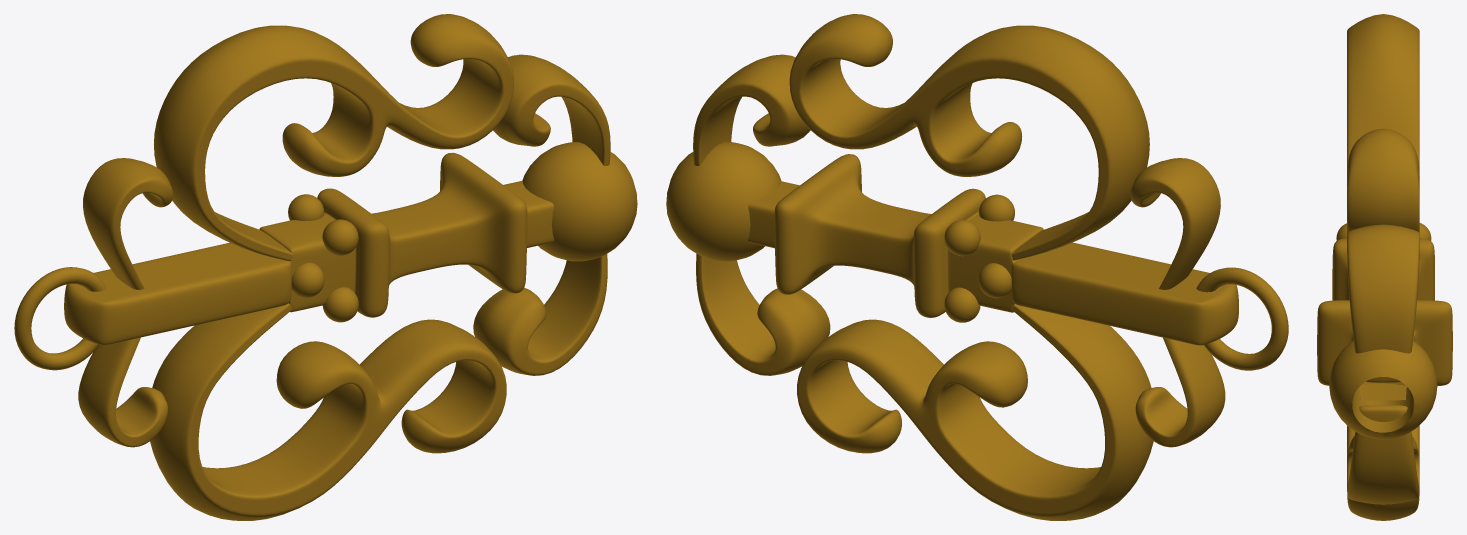
The model's file is KeyA.FBX.
3 renders of one model, left to right at view 1: azimuth 30°, elevation 25°; view 2: azimuth 150°, elevation 25°; view 3: azimuth 270°, elevation 25°, orthographic. The views are drawn at different scales.
Visible parts, largest first — view 1: Sphere019; view 2: Sphere019; view 3: Sphere019.
Boxes of the visible parts, left/top/right/bottom form: Sphere019: left=14, top=14, right=637, bottom=520; Sphere019: left=666, top=14, right=1288, bottom=520; Sphere019: left=1317, top=14, right=1452, bottom=520.
Bounding box in the file's own units: 21.99 × 16.8 × 4.73.
